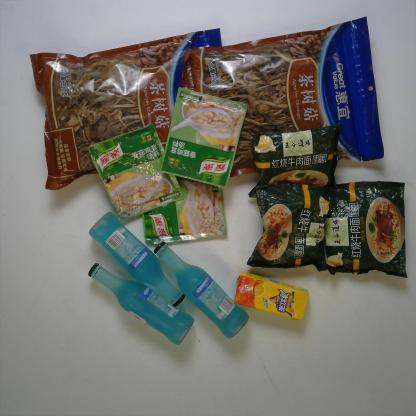Alcohol: (151, 239, 251, 340), (87, 210, 186, 307), (86, 261, 197, 347)
Dried Food: (185, 14, 386, 178), (27, 26, 223, 192)
Drink: (232, 268, 313, 323)
Instant Noodles: (324, 179, 410, 279), (245, 182, 331, 272), (247, 122, 342, 200)
Seasoner: (86, 120, 184, 224), (158, 84, 248, 190), (140, 174, 228, 244)
